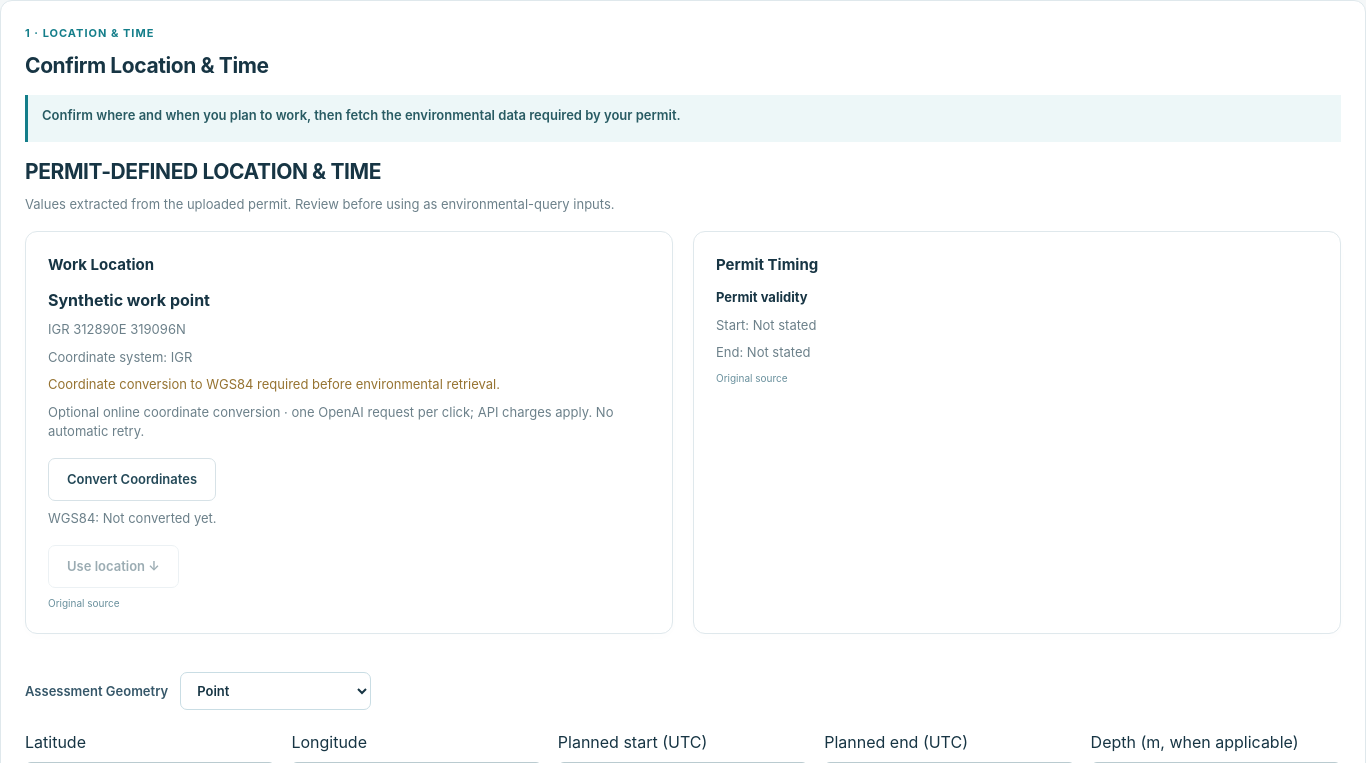
keeps Use location disabled for an unusable online result: {"status":"requires_review"}
Click the button "Convert Coordinates" at coordinates (132, 480), box [48,458,216,501]
(page scrolled)
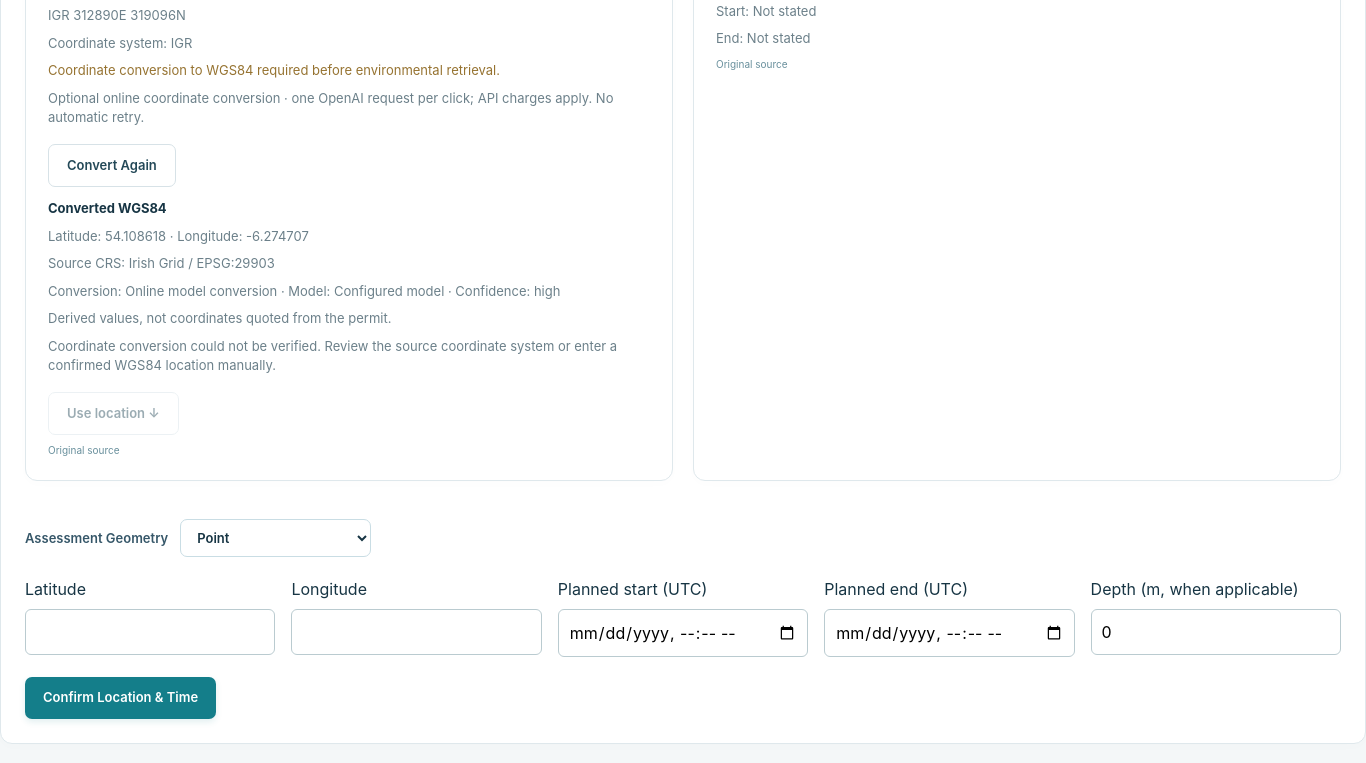
Expected: the button "Use location ↓" is disabled, [48,392,179,435]
Result: the message shows "could not be verified" at [48,338,617,373]
